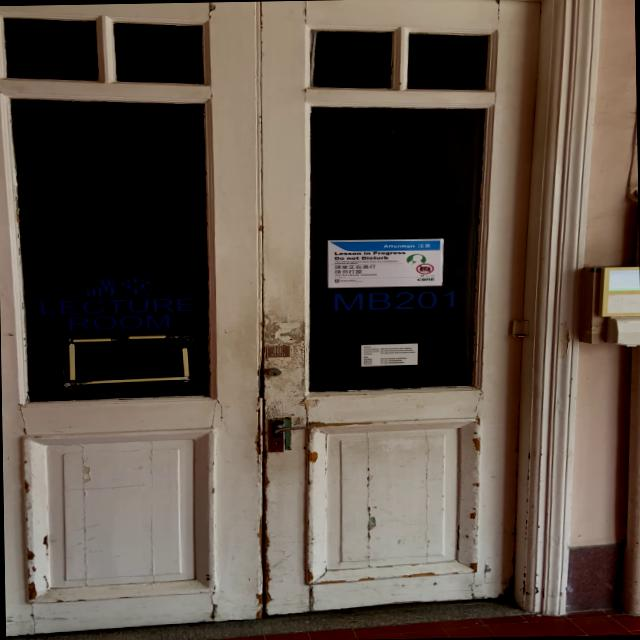room201Window: (321, 287, 465, 315)
